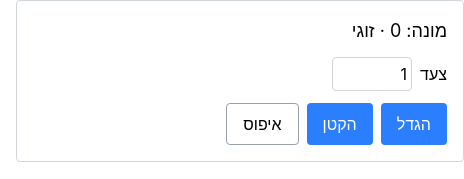
Test: changing the step makes increments jump by that amount
Replace the text in the number field labelled "צעד" with "5": (372, 74) [332,57,412,91]
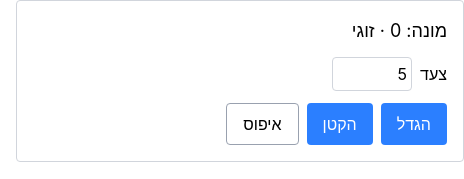
Click the button "הגדל": (414, 124) [381,103,447,145]
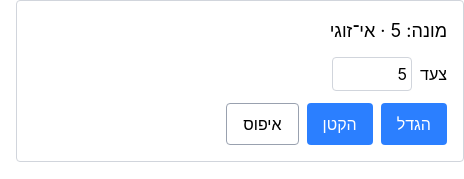
expect the text "מונה: 5 · אי־זוגי" is shown: met, box [330,20,447,41]
